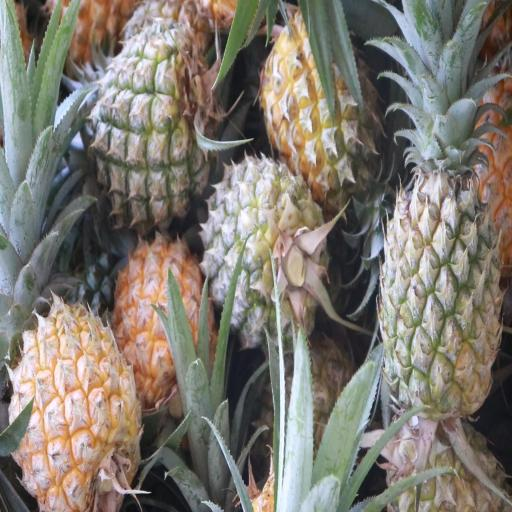------------------------------: (92, 29, 217, 220), (265, 10, 387, 197), (206, 154, 324, 338)
Pineapple - v8 v1: (18, 303, 149, 505), (114, 231, 220, 413)
